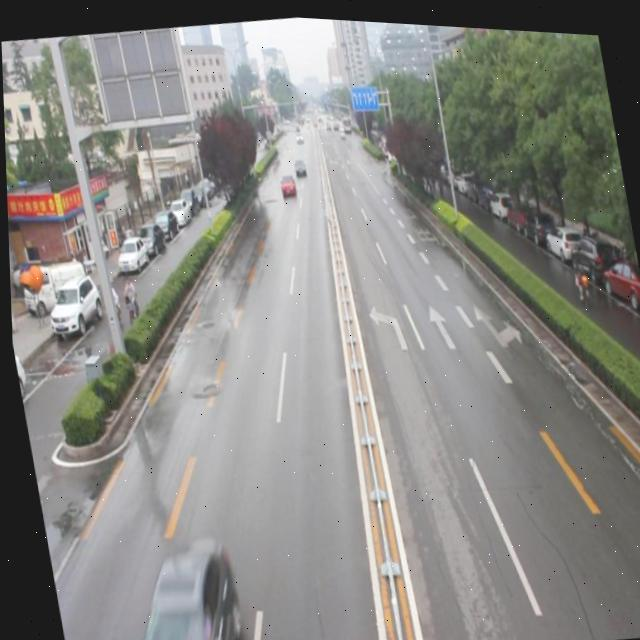car: (105, 534, 245, 640), (276, 168, 296, 195), (291, 152, 306, 173)
